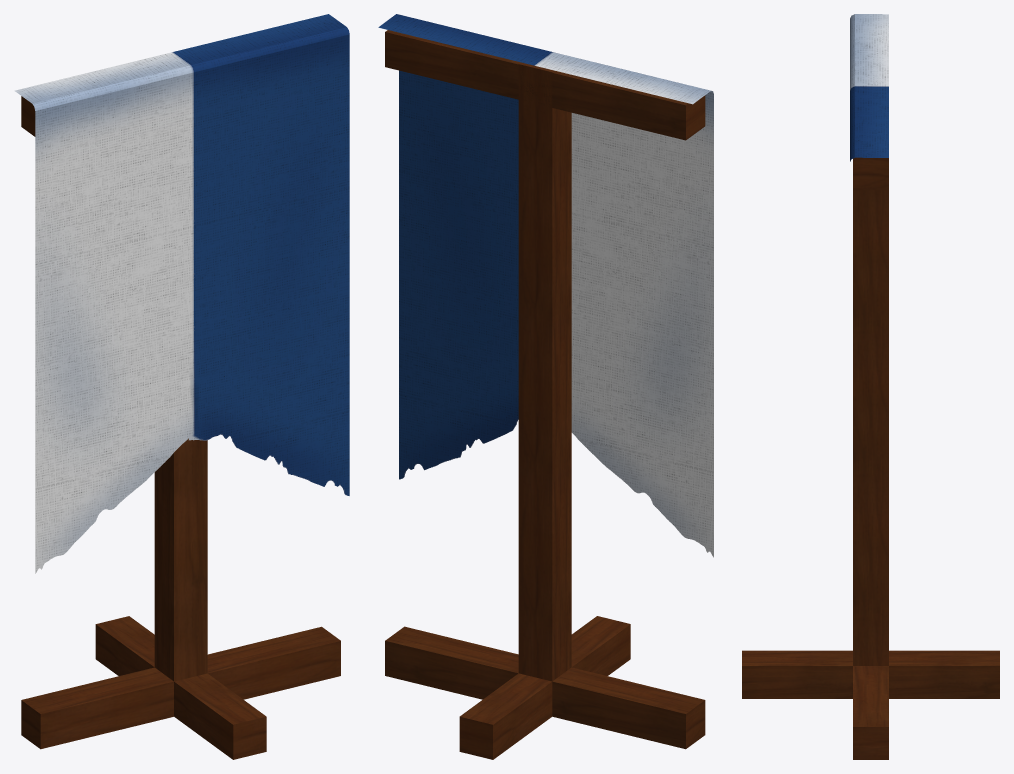
Rendered from Banner.fbx.
The picture shows the model from 3 angles, left to right: view 1: azimuth 30°, elevation 25°; view 2: azimuth 150°, elevation 25°; view 3: azimuth 270°, elevation 25°; orthographic projection. The views are drawn at different scales.
Parts seen in each view (by area): view 1: polySurface1, polySurface2; view 2: polySurface1, polySurface2; view 3: polySurface2, polySurface1.
Boxes of the visible parts, bbox=[...] form: polySurface1: bbox=[14, 14, 349, 573]; polySurface2: bbox=[21, 96, 340, 759]; polySurface1: bbox=[378, 14, 713, 557]; polySurface2: bbox=[385, 30, 705, 759]; polySurface2: bbox=[742, 157, 999, 759]; polySurface1: bbox=[850, 14, 888, 161].
Bounding box in the file's own units: 113 × 222 × 85.67.
Materials: 2 (2 with a texture image).
